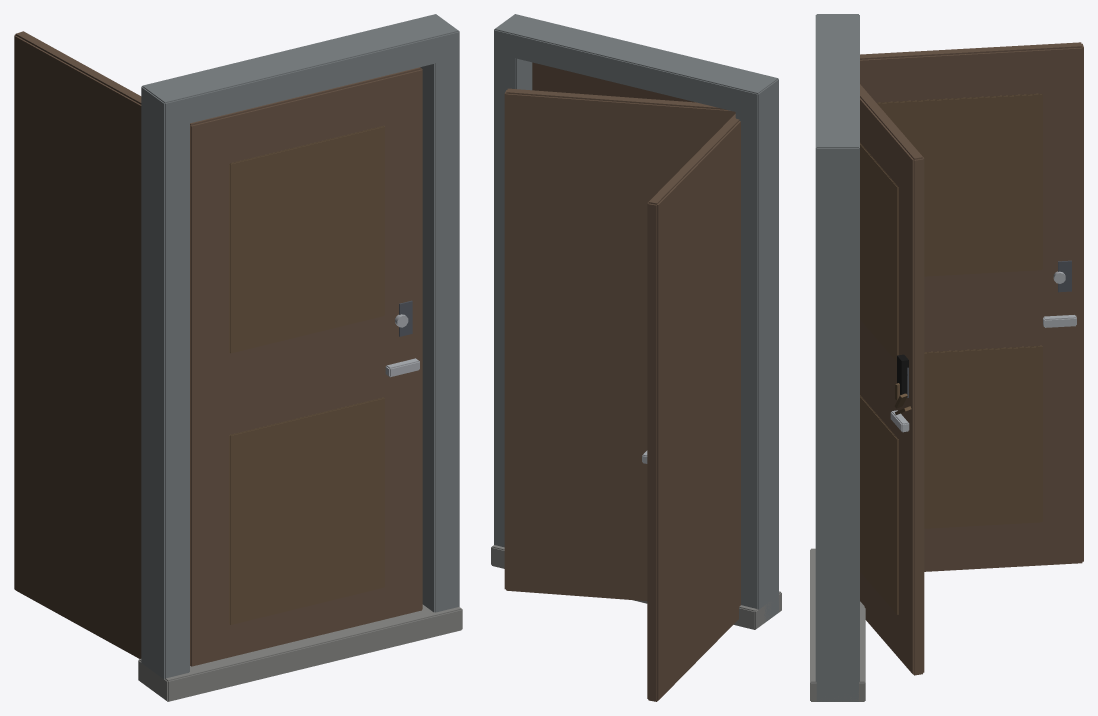
Rendered from door_lockable.glb.
The picture shows the model from 3 angles, left to right: view 1: azimuth 30°, elevation 25°; view 2: azimuth 150°, elevation 25°; view 3: azimuth 270°, elevation 25°; orthographic projection. The views are drawn at different scales.
Parts seen in each view (by area): view 1: door_anim_mesh, frame_mesh, door_open_mesh; view 2: door_forced_mesh, door_open_mesh, frame_mesh, door_anim_mesh; view 3: door_open_mesh, door_forced_mesh, frame_mesh.
Part boxes in pixels (x1,y1,x2,y2): door_anim_mesh: (190,67,422,666); frame_mesh: (138,14,462,701); door_open_mesh: (14,31,141,658); door_forced_mesh: (504,88,735,600); door_open_mesh: (642,114,740,701); frame_mesh: (491,14,781,629); door_anim_mesh: (532,62,694,102); door_open_mesh: (860,42,1083,571); door_forced_mesh: (860,84,924,675); frame_mesh: (810,14,865,701).
Size of what is drawn, in the model's own units: 1.17 by 2.2 by 0.9845.
